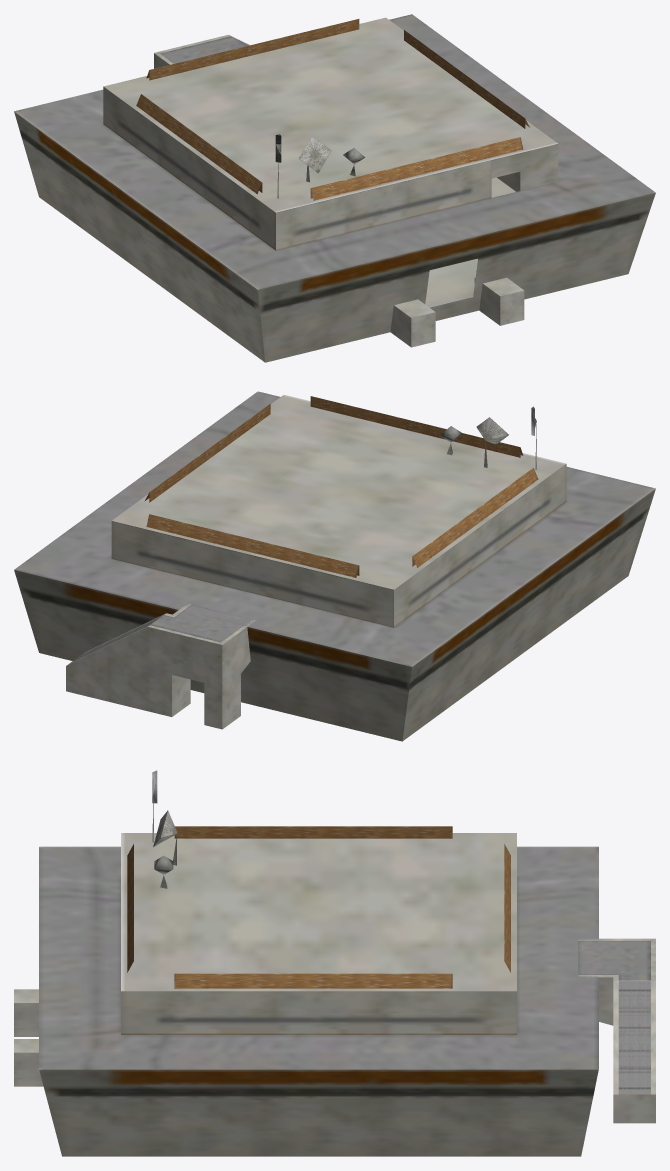
Rendered from mun_all_military_base_police_station_rebl_s01_r0_mesh_l3_r0.fbx.
3 renders of one model, top to bottom at view 1: azimuth 30°, elevation 25°; view 2: azimuth 150°, elevation 25°; view 3: azimuth 270°, elevation 25°, orthographic. The views are drawn at different scales.
Visible parts, largest first — view 1: mesh_node; view 2: mesh_node; view 3: mesh_node.
Part boxes in pixels (left/top/right/bottom): mesh_node: left=14, top=14, right=655, bottom=362; mesh_node: left=14, top=391, right=655, bottom=741; mesh_node: left=14, top=770, right=655, bottom=1156.
Bounding box in the file's own units: 49.31 × 21.88 × 60.
1 material, 1 textured.
